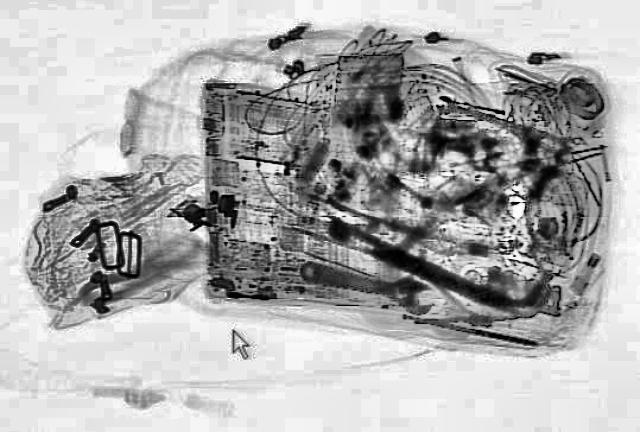Wrench: (288, 253, 444, 317)
